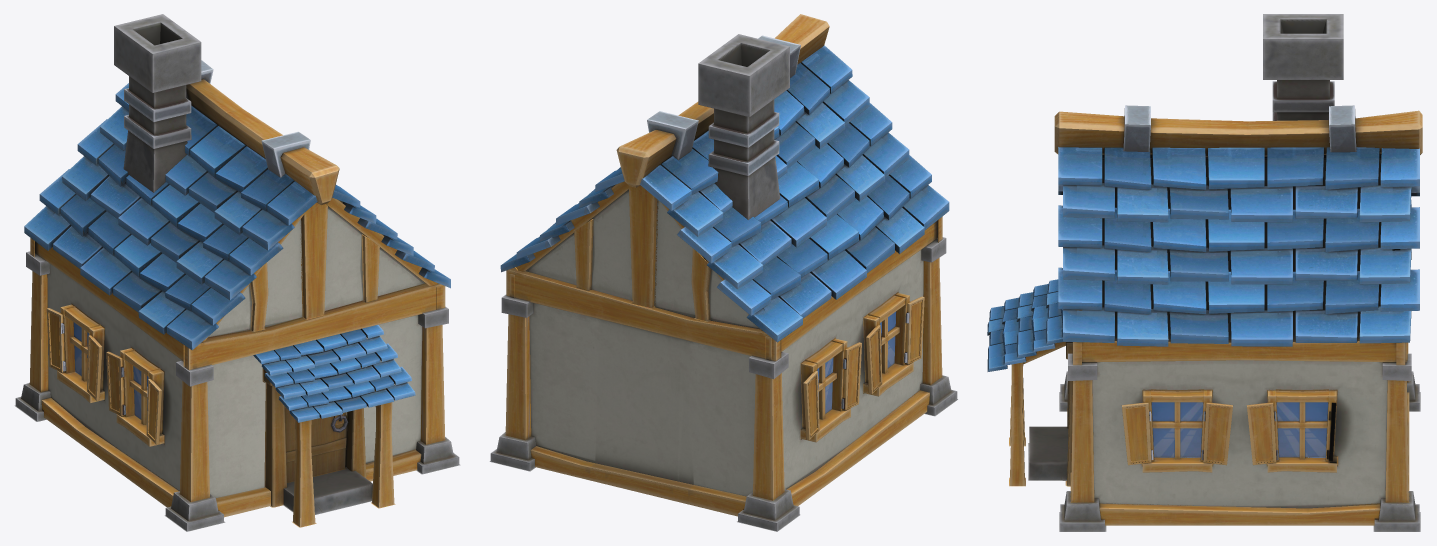
The model's file is House1.fbx.
3 renders of one model, left to right at view 1: azimuth 30°, elevation 25°; view 2: azimuth 150°, elevation 25°; view 3: azimuth 270°, elevation 25°, orthographic. The views are drawn at different scales.
Parts seen in each view (by area): view 1: House1; view 2: House1; view 3: House1.
Part boxes in pixels (bbox=[...]): House1: bbox=[14, 14, 460, 531]; House1: bbox=[489, 14, 957, 531]; House1: bbox=[987, 14, 1422, 531].
Bounding box in the file's own units: 673 × 921 × 884.
